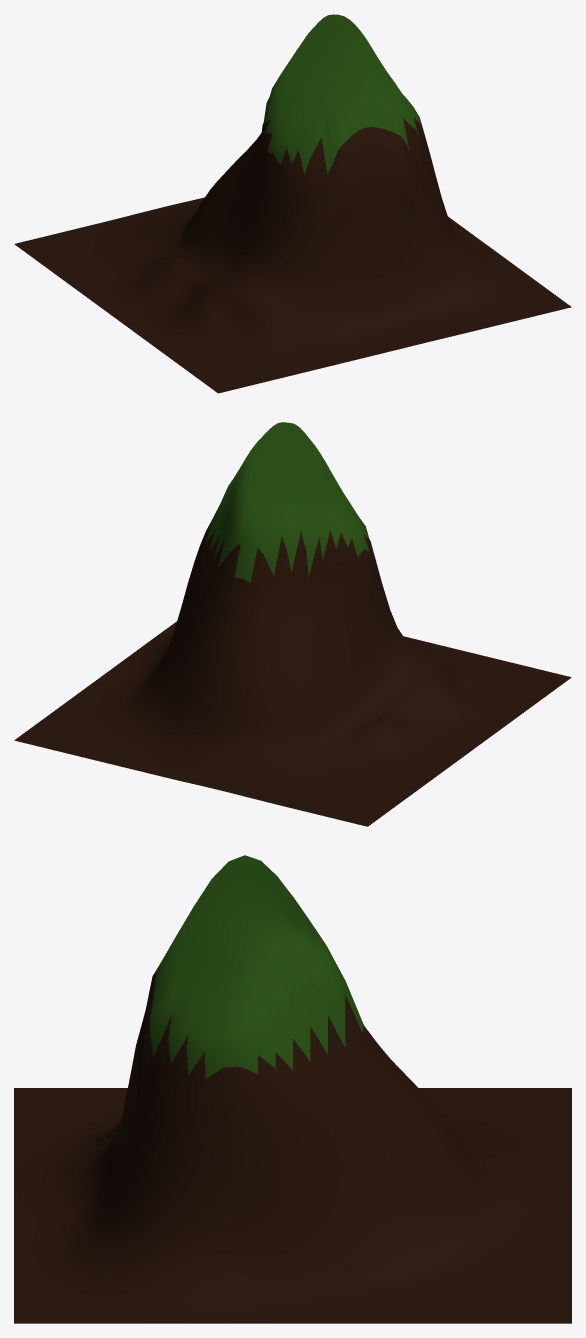
Rendered from Mountain01_Mapa08_DBZ.FBX.
The picture shows the model from 3 angles, top to bottom: view 1: azimuth 30°, elevation 25°; view 2: azimuth 150°, elevation 25°; view 3: azimuth 270°, elevation 25°; orthographic projection. The views are drawn at different scales.
Parts seen in each view (by area): view 1: Plane003; view 2: Plane003; view 3: Plane003.
Part boxes in pixels (left/top/right/bottom): Plane003: left=14, top=14, right=571, bottom=393; Plane003: left=14, top=422, right=571, bottom=826; Plane003: left=14, top=855, right=571, bottom=1323.
Size of the model in its own units: 231 by 167 by 231.
